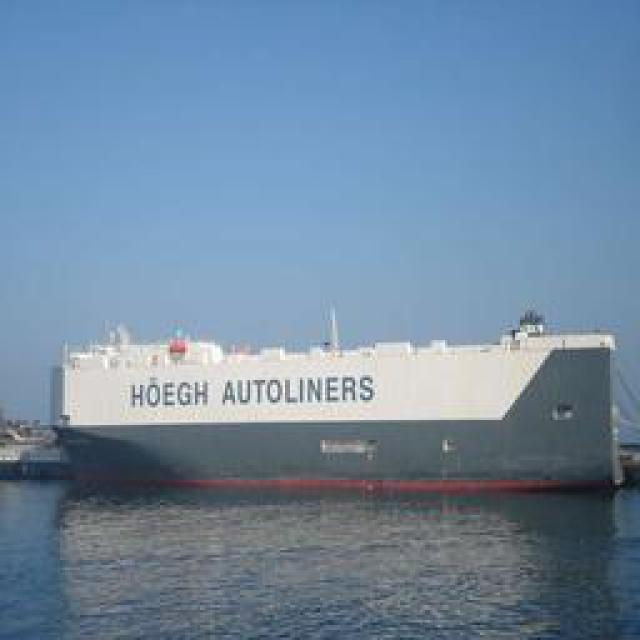Ship: (55, 296, 625, 486)
